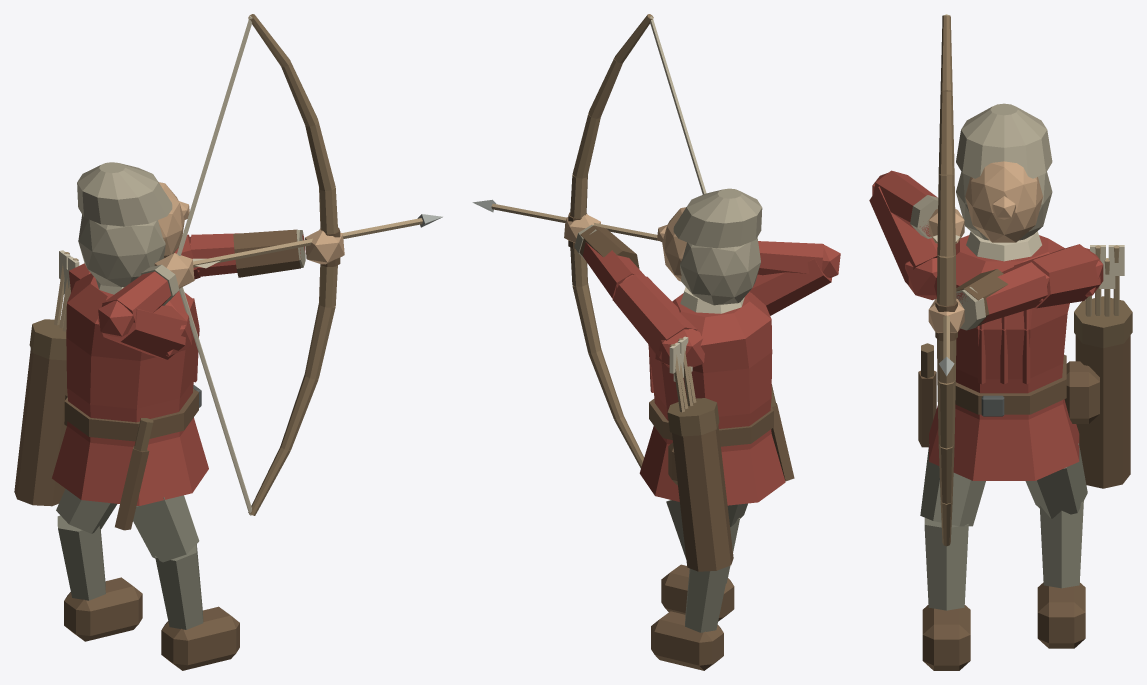
The model's file is infantry_archer.glb.
3 renders of one model, left to right at view 1: azimuth 30°, elevation 25°; view 2: azimuth 150°, elevation 25°; view 3: azimuth 270°, elevation 25°, orthographic. The views are drawn at different scales.
Visible parts, largest first — view 1: infantry_archer_team_cloth, infantry_archer_leather, infantry_archer_hose, infantry_archer_padded_linen, infantry_archer_oak, infantry_archer_linen, infantry_archer_skin, infantry_archer_oak_light, infantry_archer_oak_dark; view 2: infantry_archer_team_cloth, infantry_archer_leather, infantry_archer_padded_linen, infantry_archer_oak, infantry_archer_hose, infantry_archer_linen, infantry_archer_oak_light, infantry_archer_oak_dark, infantry_archer_skin; view 3: infantry_archer_team_cloth, infantry_archer_leather, infantry_archer_hose, infantry_archer_padded_linen, infantry_archer_oak, infantry_archer_skin, infantry_archer_oak_dark, infantry_archer_linen, infantry_archer_oak_light, infantry_archer_iron.
Part boxes in pixels (x1=…): infantry_archer_team_cloth: x1=52, y1=233, x2=305, y2=505; infantry_archer_leather: x1=14, y1=227, x2=340, y2=670; infantry_archer_hose: x1=56, y1=489, x2=203, y2=629; infantry_archer_padded_linen: x1=77, y1=162, x2=305, y2=305; infantry_archer_oak: x1=248, y1=14, x2=338, y2=515; infantry_archer_linen: x1=59, y1=16, x2=252, y2=515; infantry_archer_skin: x1=154, y1=182, x2=344, y2=288; infantry_archer_oak_light: x1=54, y1=218, x2=422, y2=331; infantry_archer_oak_dark: x1=29, y1=319, x2=153, y2=451; infantry_archer_team_cloth: x1=582, y1=241, x2=840, y2=505; infantry_archer_leather: x1=568, y1=212, x2=794, y2=670; infantry_archer_padded_linen: x1=574, y1=188, x2=762, y2=305; infantry_archer_oak: x1=570, y1=14, x2=653, y2=468; infantry_archer_hose: x1=666, y1=500, x2=747, y2=632; infantry_archer_linen: x1=650, y1=16, x2=744, y2=381; infantry_archer_oak_light: x1=491, y1=203, x2=696, y2=412; infantry_archer_oak_dark: x1=667, y1=384, x2=776, y2=436; infantry_archer_skin: x1=564, y1=207, x2=686, y2=281; infantry_archer_team_cloth: x1=869, y1=170, x2=1103, y2=480; infantry_archer_leather: x1=918, y1=269, x2=1130, y2=670; infantry_archer_hose: x1=920, y1=443, x2=1087, y2=610; infantry_archer_padded_linen: x1=910, y1=103, x2=1052, y2=330; infantry_archer_oak: x1=937, y1=15, x2=956, y2=546; infantry_archer_skin: x1=928, y1=161, x2=1042, y2=333; infantry_archer_oak_dark: x1=921, y1=296, x2=1132, y2=378; infantry_archer_linen: x1=933, y1=14, x2=1124, y2=288; infantry_archer_oak_light: x1=943, y1=245, x2=1119, y2=358; infantry_archer_iron: x1=981, y1=395, x2=1004, y2=416.
Bounding box in the file's own units: 1.41 × 2.32 × 0.8239.
